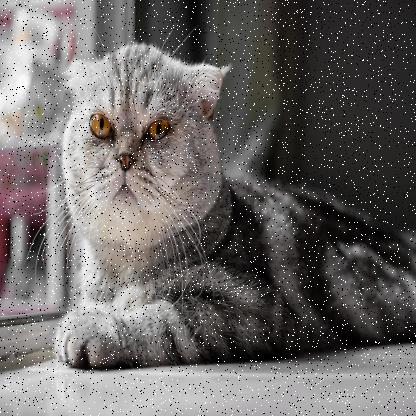cat: (51, 40, 412, 368)
